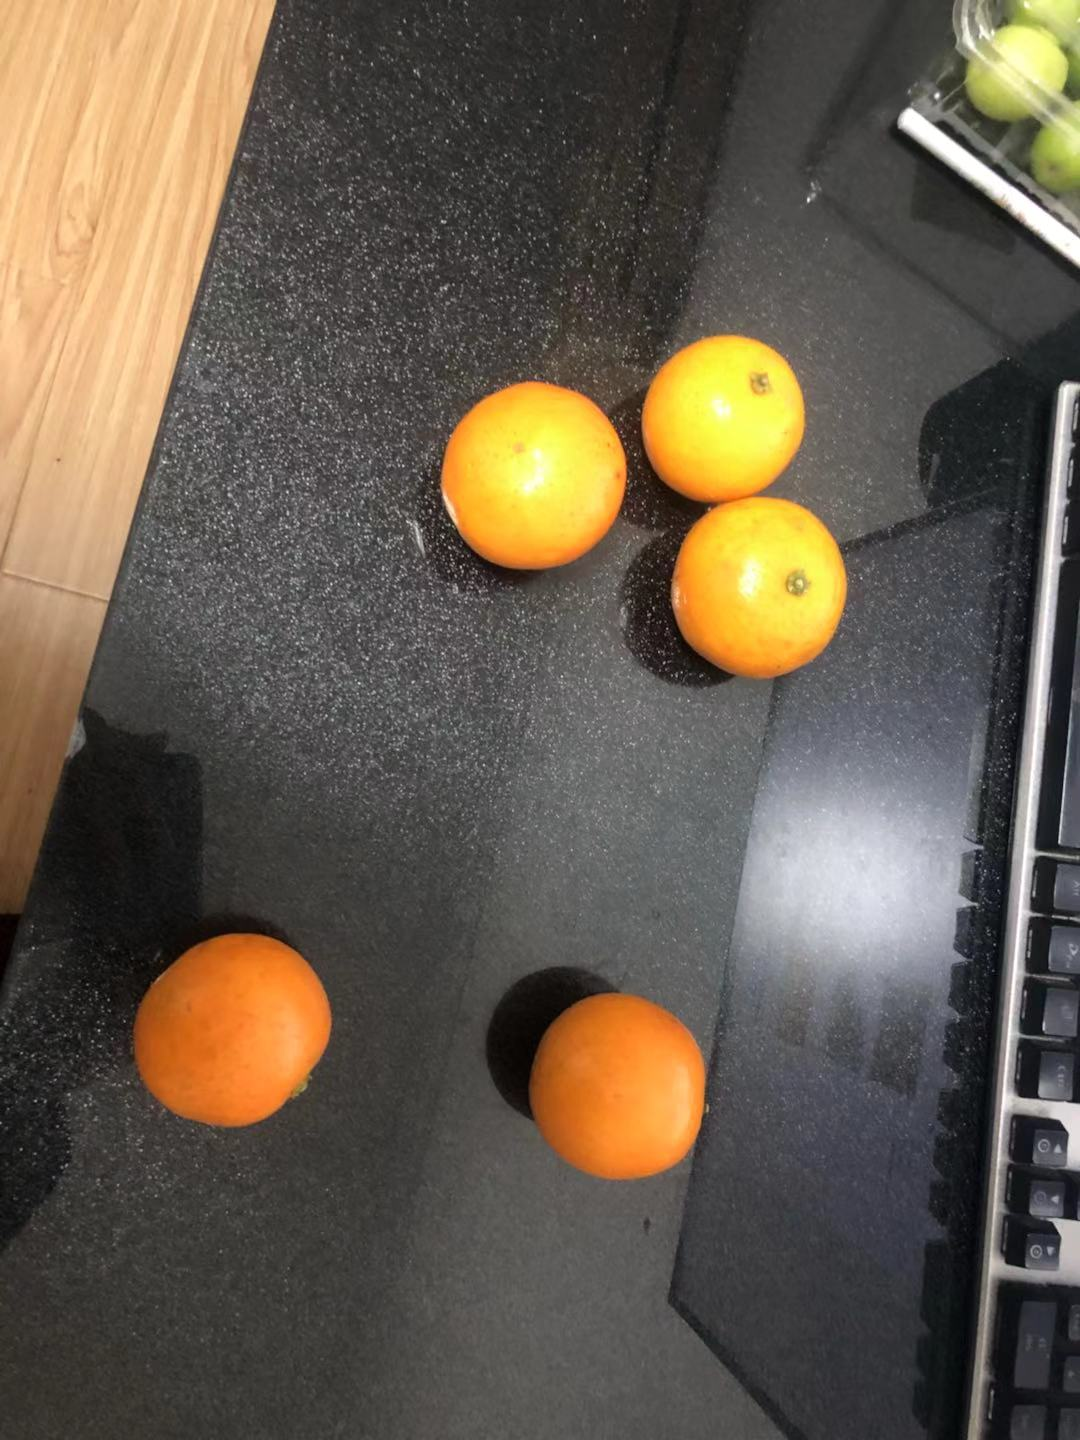goods: (132, 934, 330, 1128), (439, 381, 623, 569), (528, 993, 704, 1180), (673, 498, 847, 680), (641, 332, 805, 502)
